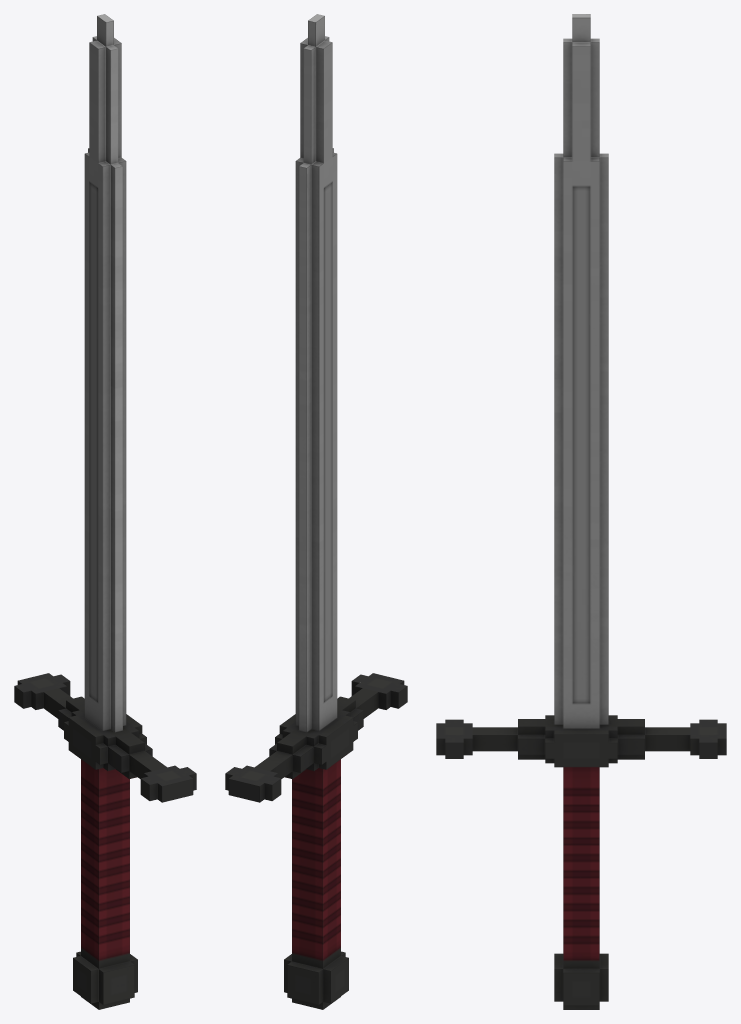
Rendered from RD_SWORD.glb.
3 views of the same model, side by side, from view 1: azimuth 30°, elevation 25°; view 2: azimuth 150°, elevation 25°; view 3: azimuth 270°, elevation 25° (orthographic).
Parts seen in each view (by area): view 1: HEAVY_SWORD; view 2: HEAVY_SWORD; view 3: HEAVY_SWORD.
Boxes of the visible parts, <box> form: HEAVY_SWORD: <box>14,14,196,1009</box>; HEAVY_SWORD: <box>225,14,407,1009</box>; HEAVY_SWORD: <box>436,14,726,1009</box>.
Size of the model in its own units: 0.0827 by 1.65 by 0.4409.
1 material, 1 textured.
